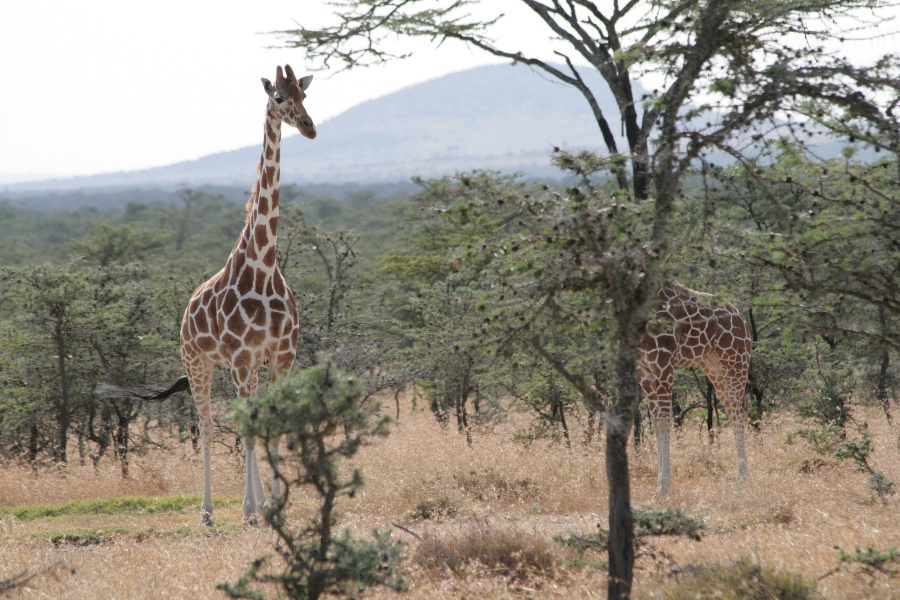giraffe: (167, 54, 326, 527), (562, 240, 772, 493)
